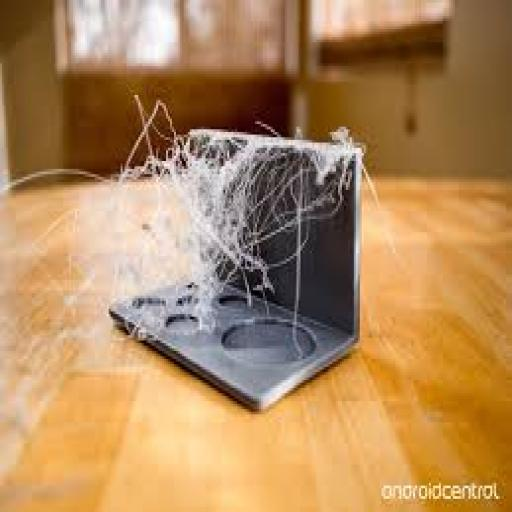spaghetti: (99, 119, 353, 339)
